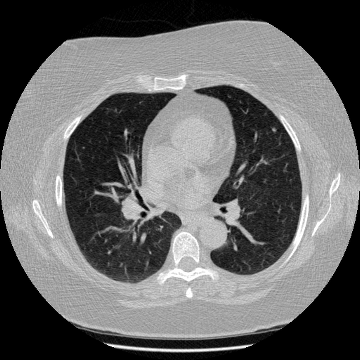nodule: (272, 128, 276, 132)
